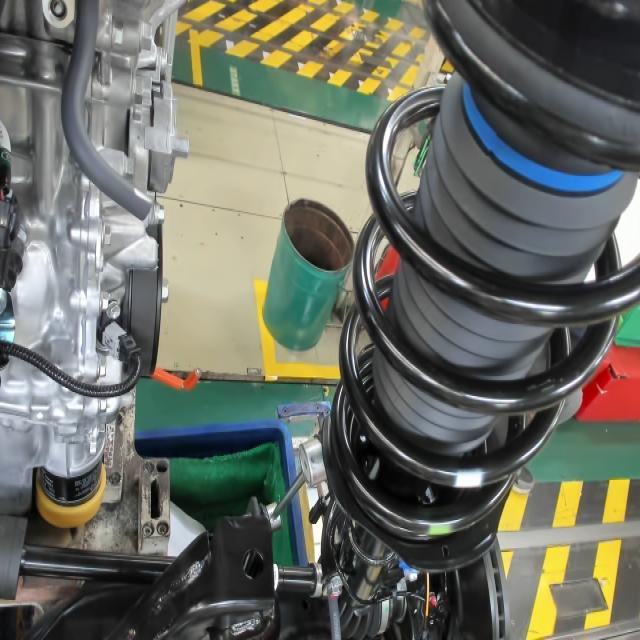Bumper-BR: (454, 72, 634, 196)
